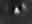person: (23, 4, 29, 17), (15, 7, 21, 17)
